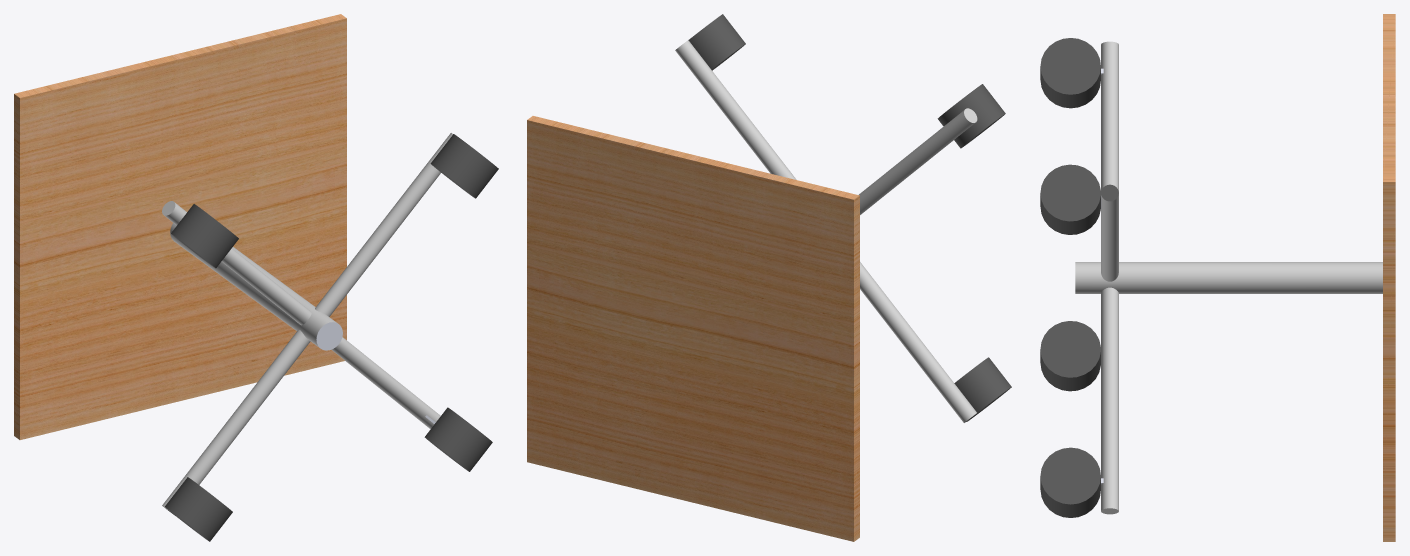
File: table.dae
3 renders of one model, left to right at view 1: azimuth 30°, elevation 25°; view 2: azimuth 150°, elevation 25°; view 3: azimuth 270°, elevation 25°, orthographic. The views are drawn at different scales.
Parts seen in each view (by area): view 1: _table_VISUALIZE_Root_polished_cherry_2d_001, _table_VISUALIZE_Root_light_grey_low_gloss_plastic_001, _table_VISUALIZE_Root_black_soft_touch_plastic_001, _table_VISUALIZE_Root_color_001; view 2: _table_VISUALIZE_Root_polished_cherry_2d_001, _table_VISUALIZE_Root_light_grey_low_gloss_plastic_001, _table_VISUALIZE_Root_black_soft_touch_plastic_001; view 3: _table_VISUALIZE_Root_light_grey_low_gloss_plastic_001, _table_VISUALIZE_Root_black_soft_touch_plastic_001, _table_VISUALIZE_Root_polished_cherry_2d_001.
Part boxes in pixels (x1,y1,x2,y2): _table_VISUALIZE_Root_polished_cherry_2d_001: [14, 14, 346, 439]; _table_VISUALIZE_Root_light_grey_low_gloss_plastic_001: [162, 133, 452, 509]; _table_VISUALIZE_Root_black_soft_touch_plastic_001: [163, 134, 498, 541]; _table_VISUALIZE_Root_color_001: [316, 322, 435, 423]; _table_VISUALIZE_Root_polished_cherry_2d_001: [527, 116, 859, 541]; _table_VISUALIZE_Root_light_grey_low_gloss_plastic_001: [675, 40, 977, 422]; _table_VISUALIZE_Root_black_soft_touch_plastic_001: [688, 14, 1011, 422]; _table_VISUALIZE_Root_light_grey_low_gloss_plastic_001: [1075, 41, 1382, 514]; _table_VISUALIZE_Root_black_soft_touch_plastic_001: [1040, 38, 1118, 517]; _table_VISUALIZE_Root_polished_cherry_2d_001: [1383, 14, 1395, 541].
Bounding box in the file's own units: 0.8 × 0.715 × 0.8.
4 materials, 1 textured.
